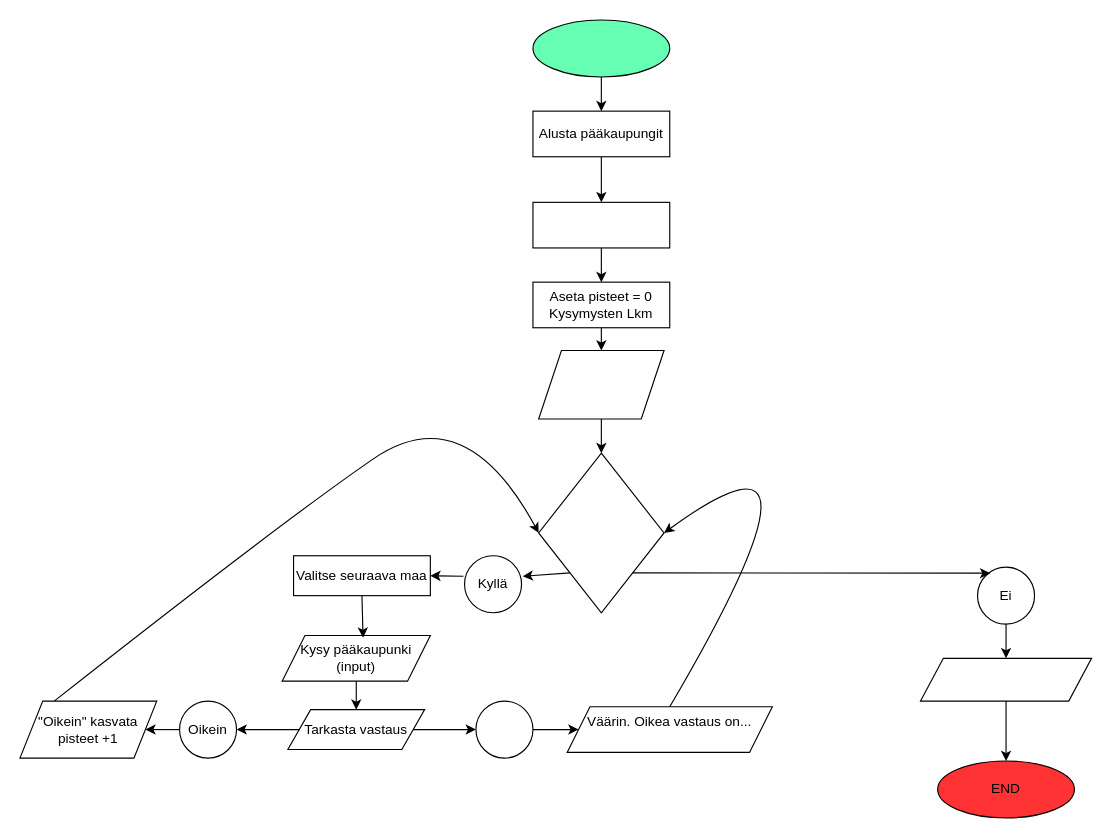
Image size: 1112x838. Some labels were removed from this diagram. The centre of each missing label's shape, as x and y in pixels:
Sekoita maa lista (random.shuffle): (601,224)
Silmukka alkaa . Onko kysymyksiä jäljellä?: (601,532)
START: (601,48)
Tulokset. Lopullinen pistemäärä: (1005,679)
Tulosta tervetuloviesti: (601,384)
Väärin: (504,729)
